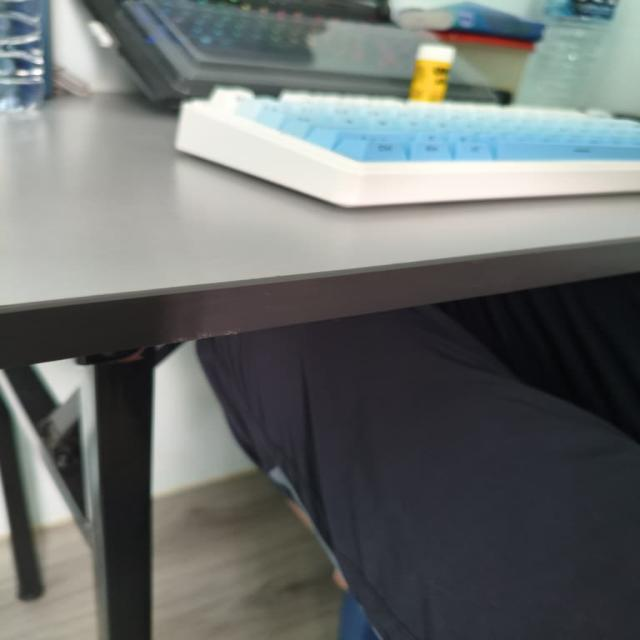glue: (408, 43, 455, 101)
